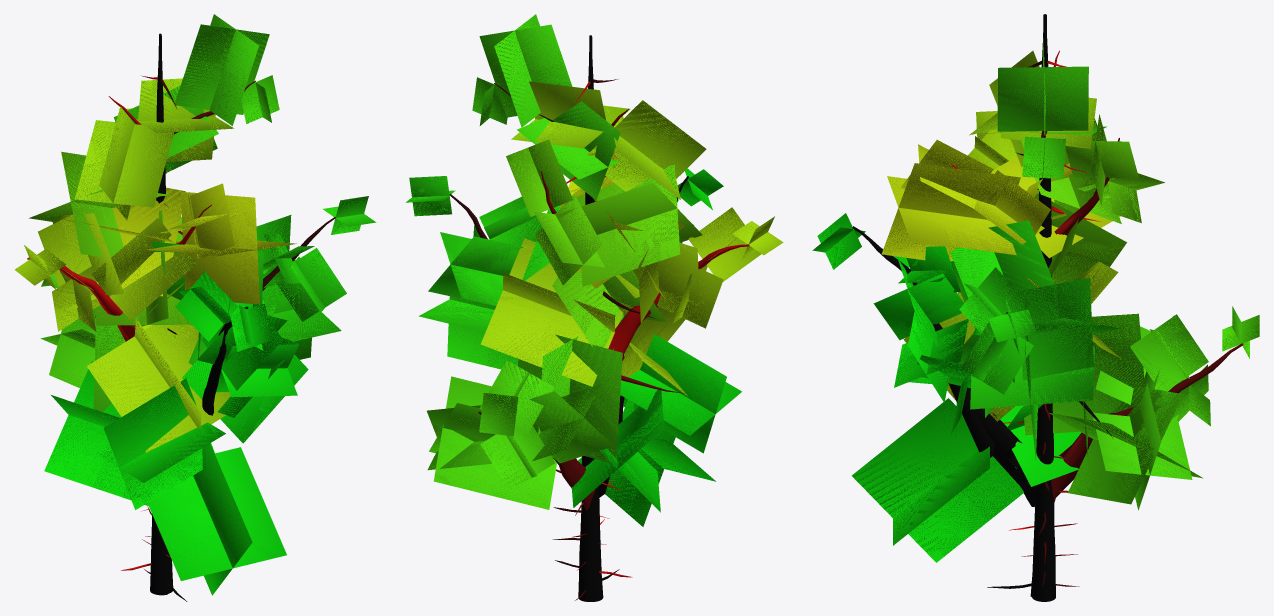
File: Type_5_Tree_3.fbx
3 renders of one model, left to right at view 1: azimuth 30°, elevation 25°; view 2: azimuth 150°, elevation 25°; view 3: azimuth 270°, elevation 25°, orthographic. The views are drawn at different scales.
Visible parts, largest first — view 1: Leaf, Trunk; view 2: Leaf, Trunk; view 3: Leaf, Trunk.
Boxes of the visible parts, left/top/right/bottom form: Leaf: left=14, top=14, right=376, bottom=595; Trunk: left=27, top=33, right=335, bottom=601; Leaf: left=406, top=14, right=783, bottom=526; Trunk: left=449, top=35, right=749, bottom=601; Leaf: left=812, top=38, right=1259, bottom=562; Trunk: left=852, top=14, right=1243, bottom=601.
Size of the model in its own units: 3319 by 5005 by 3483.
